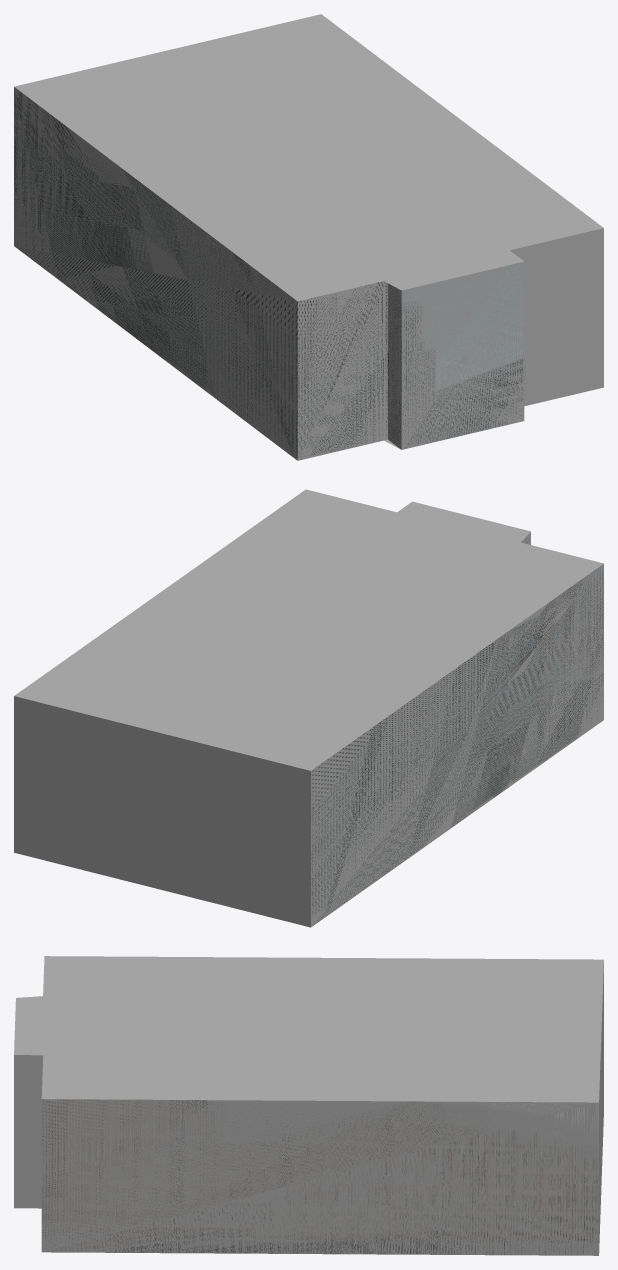
The model's file is my_region_textured.glb.
3 renders of one model, top to bottom at view 1: azimuth 30°, elevation 25°; view 2: azimuth 150°, elevation 25°; view 3: azimuth 270°, elevation 25°, orthographic. The views are drawn at different scales.
Visible parts, largest first — view 1: world; view 2: world; view 3: world.
Boxes of the visible parts, x1,y1,x2,y2 form: world: (14, 14, 603, 460); world: (14, 489, 603, 927); world: (14, 956, 603, 1255).
Bounding box in the file's own units: 50.19 × 24.5 × 85.46.
Materials: 1 (1 with a texture image).
